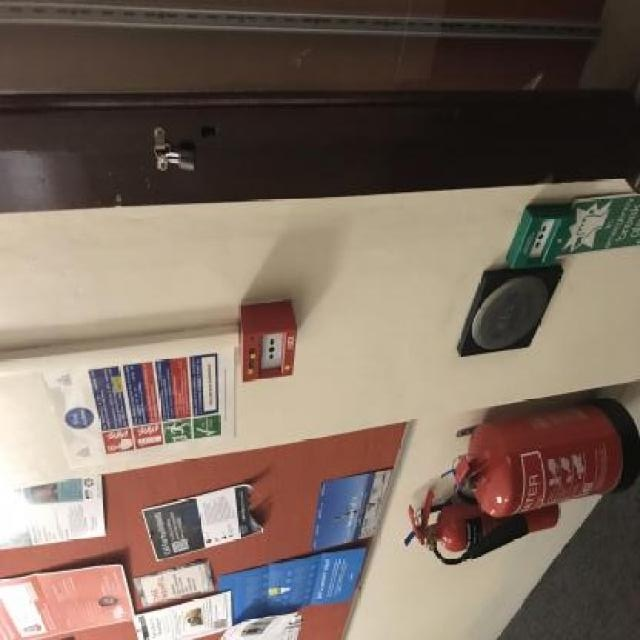fire extinguisher: (451, 400, 627, 518), (407, 493, 559, 565)
